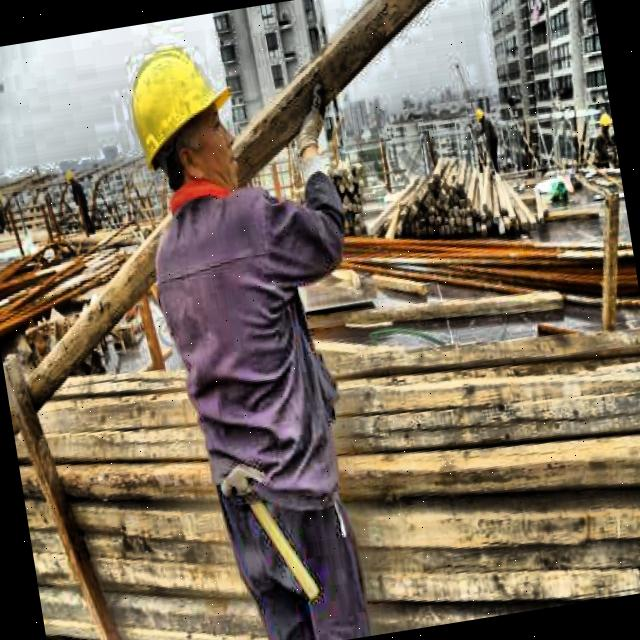helmet: (108, 20, 256, 222), (596, 108, 614, 138)
